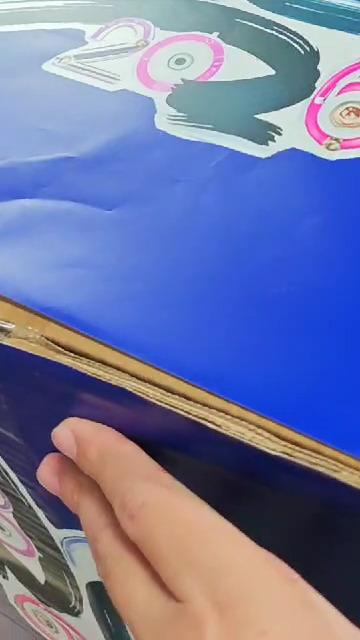B_R1: (5, 0, 360, 159)
